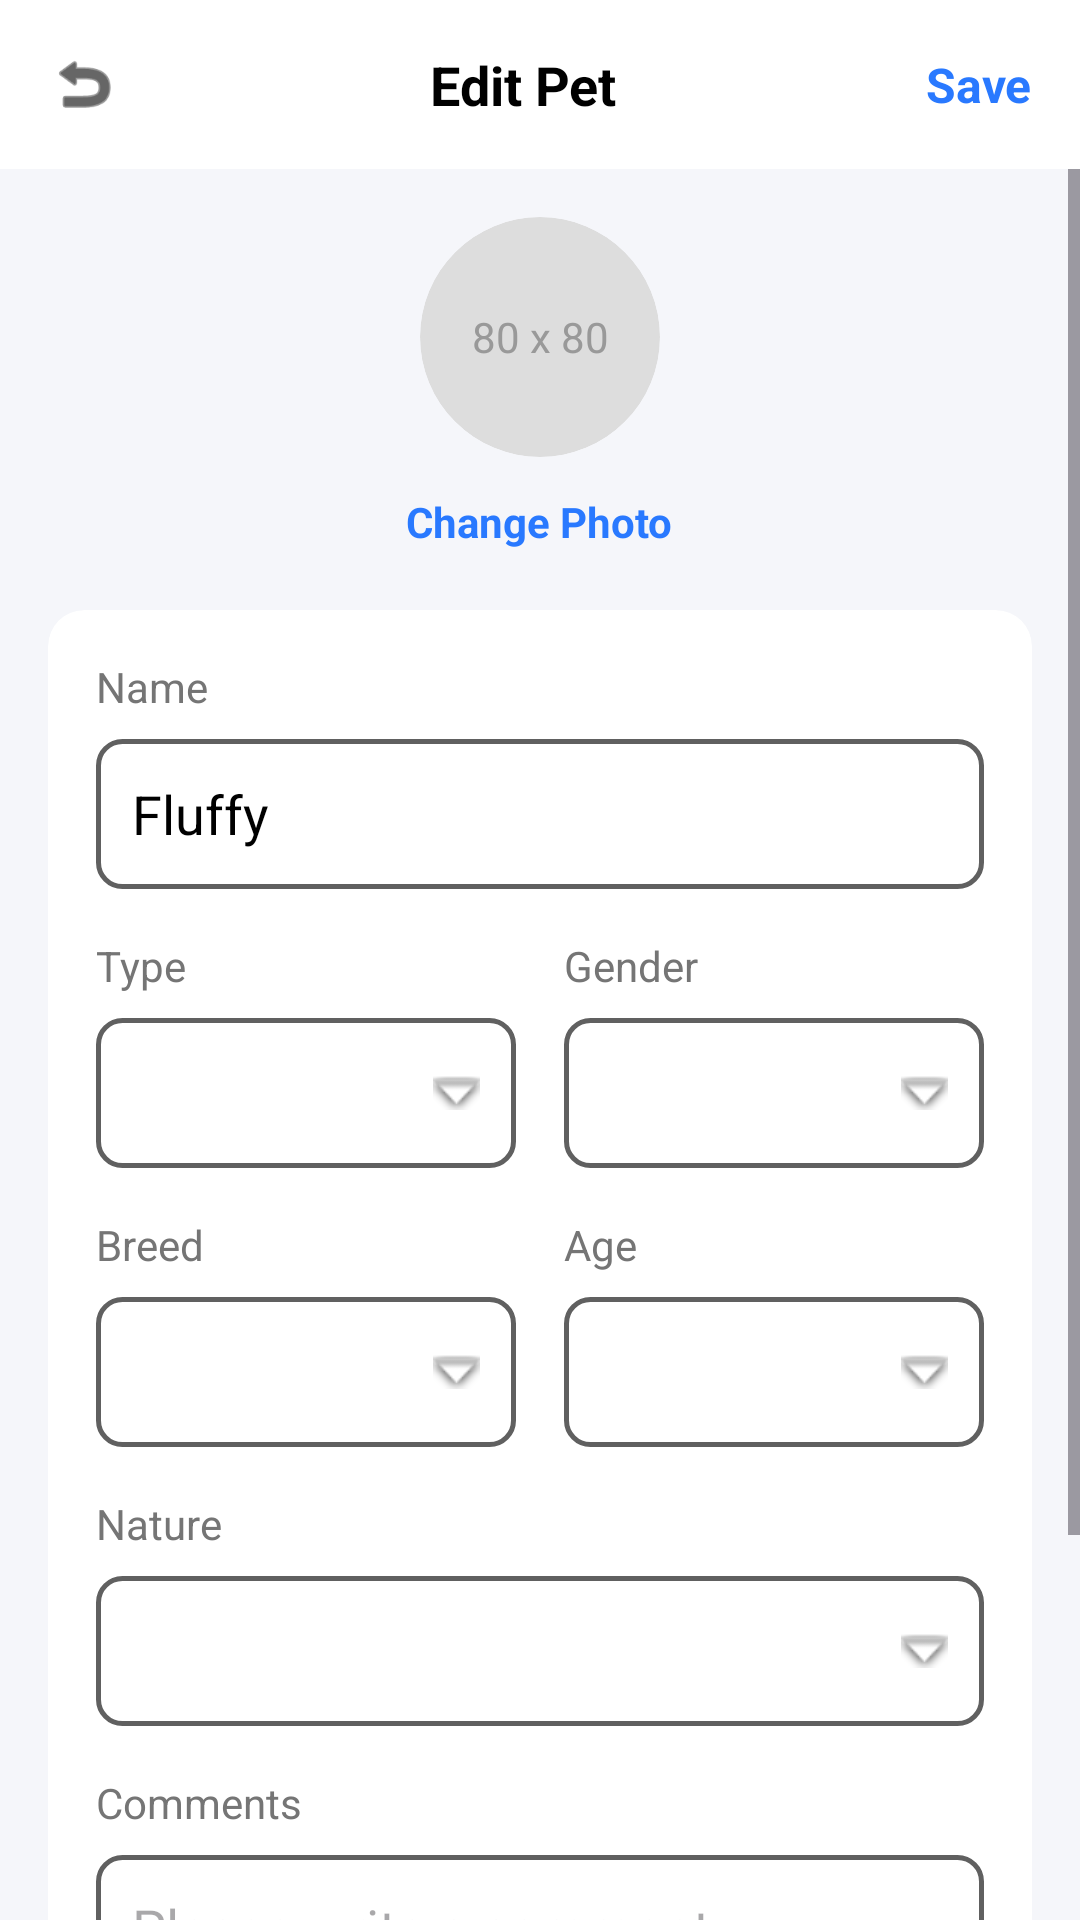

Icons on this 1080px x 1920px Android screen, each with the point to tap as point (x, y):
revert: point (85, 84)
